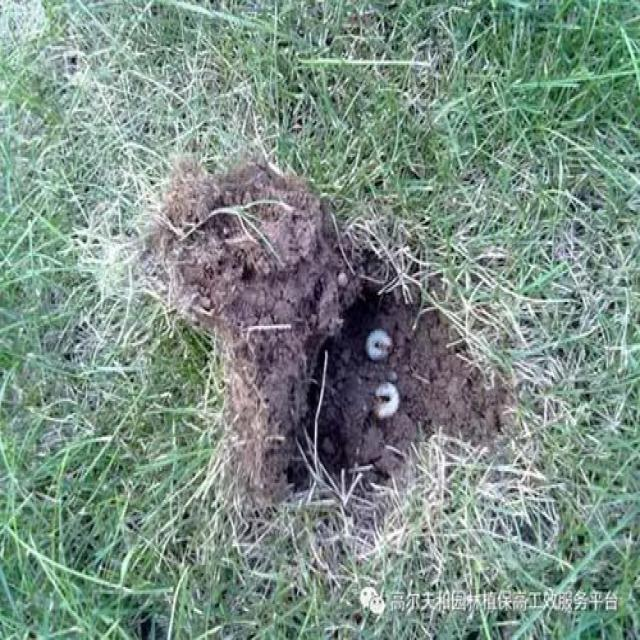Grub-Adult-: (367, 376, 409, 432), (357, 319, 403, 370)
